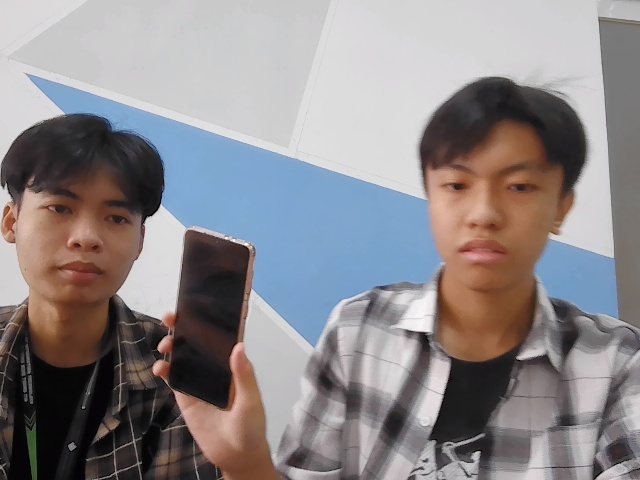human: (412, 74, 584, 283), (1, 103, 163, 315)
phone: (171, 221, 252, 419)
